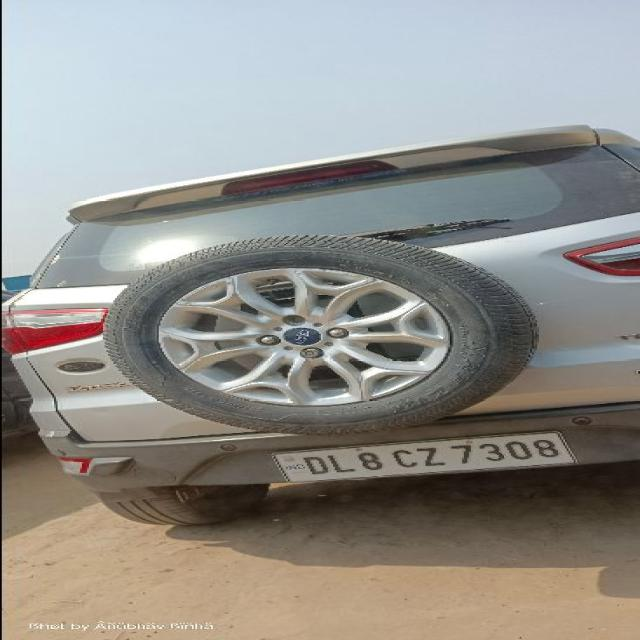license_plate: (269, 429, 579, 483)
